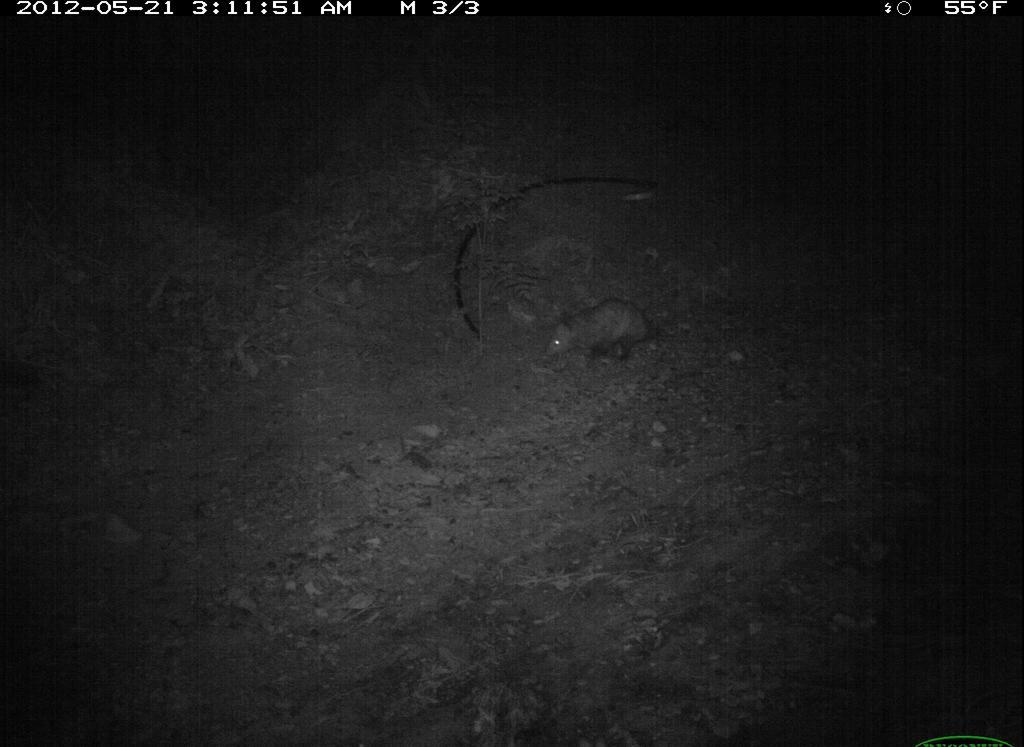opossum: (542, 289, 664, 377)
